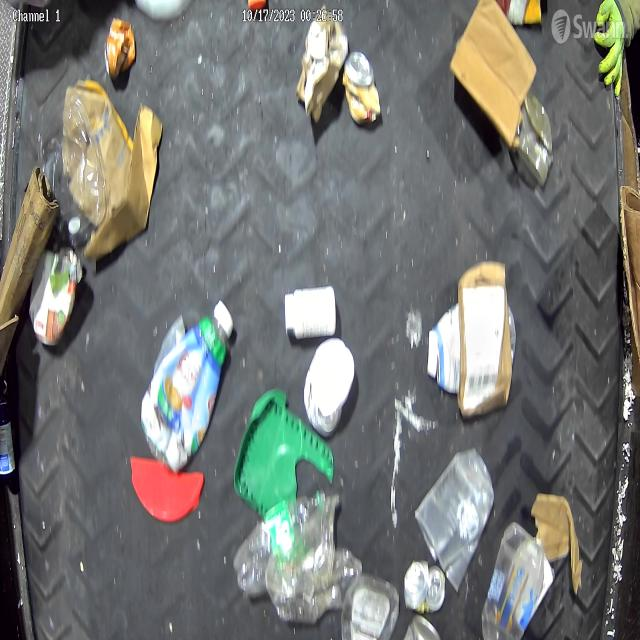can: (29, 248, 78, 347), (516, 92, 553, 187), (344, 50, 381, 127), (106, 11, 138, 80), (406, 559, 446, 614), (403, 615, 439, 640)
plastic_bottle: (232, 490, 326, 597)
